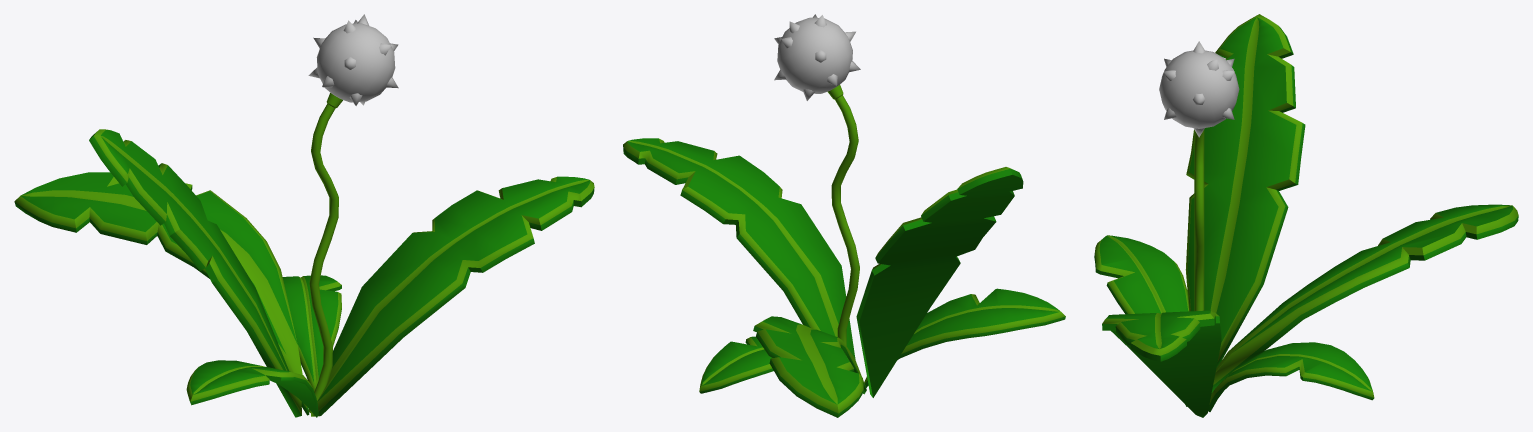
File: Dandelion.fbx
3 renders of one model, left to right at view 1: azimuth 30°, elevation 25°; view 2: azimuth 150°, elevation 25°; view 3: azimuth 270°, elevation 25°, orthographic. The views are drawn at different scales.
Visible parts, largest first — view 1: Dandalion_LOD0; view 2: Dandalion_LOD0; view 3: Dandalion_LOD0.
Boxes of the visible parts, x1,y1,x2,y2 form: Dandalion_LOD0: (14, 14, 594, 417); Dandalion_LOD0: (623, 14, 1065, 417); Dandalion_LOD0: (1094, 14, 1518, 417).
Size of what is drawn, in the model's own units: 162 by 133 by 131.
